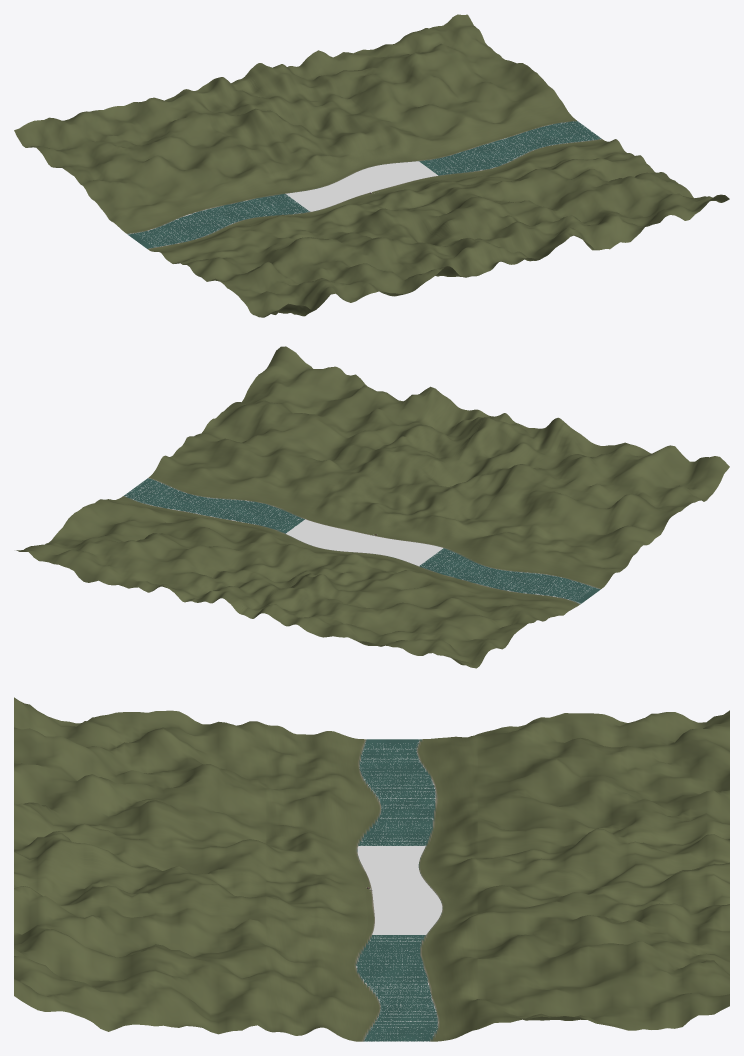
Rendered from anshun.glb.
3 renders of one model, top to bottom at view 1: azimuth 30°, elevation 25°; view 2: azimuth 150°, elevation 25°; view 3: azimuth 270°, elevation 25°, orthographic. The views are drawn at different scales.
Parts seen in each view (by area): view 1: Continuous terrain, River surface; view 2: Continuous terrain, River surface; view 3: Continuous terrain, River surface.
Boxes of the visible parts, bbox=[...] form: Continuous terrain: bbox=[14, 14, 729, 317]; River surface: bbox=[127, 121, 600, 246]; Continuous terrain: bbox=[16, 346, 729, 668]; River surface: bbox=[125, 478, 597, 603]; Continuous terrain: bbox=[14, 697, 729, 1041]; River surface: bbox=[356, 741, 442, 1041].
Bounding box in the file's own units: 3516 × 300 × 3516.
52 materials, 29 textured.
